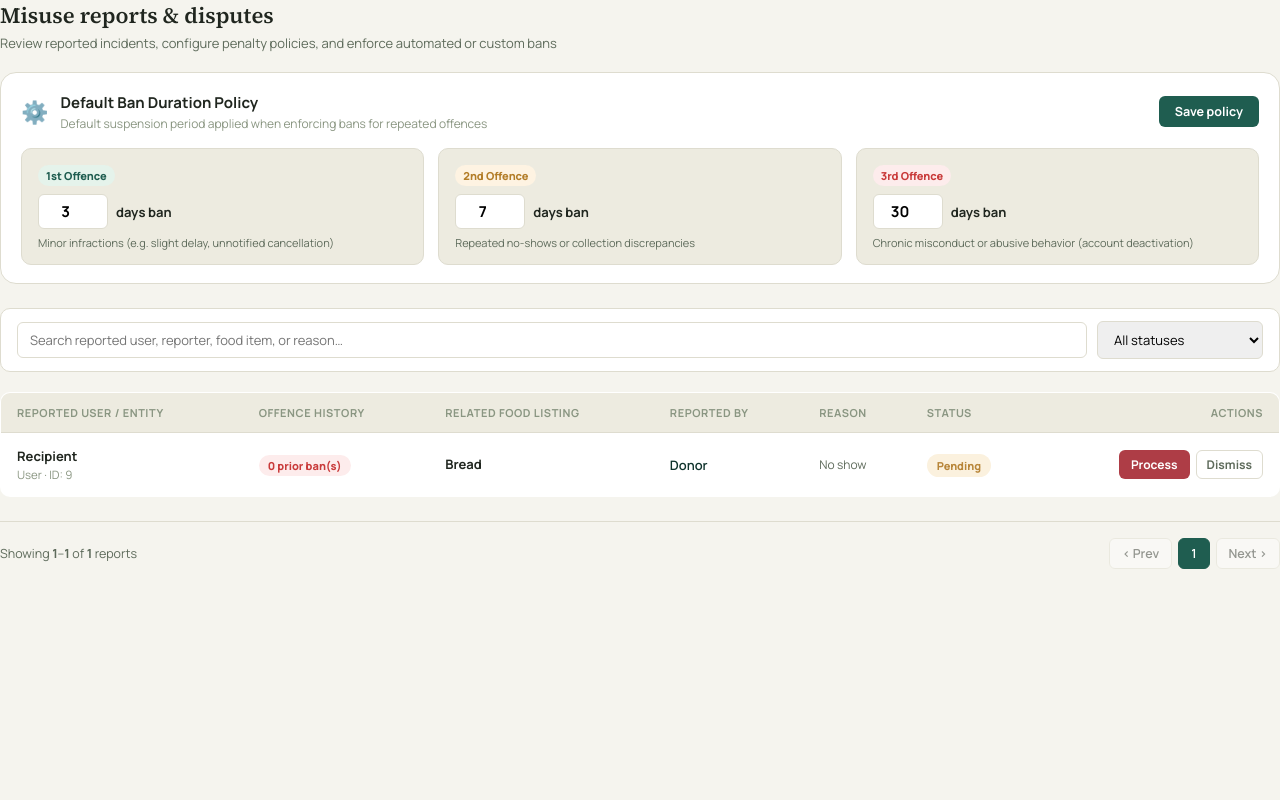
retains process form and pending row when server rejects action
The image size is (1280, 800).
Step 1. Click the button with class "btn-process" → (1154, 465), box x1=1119 y1=450 x2=1190 y2=479
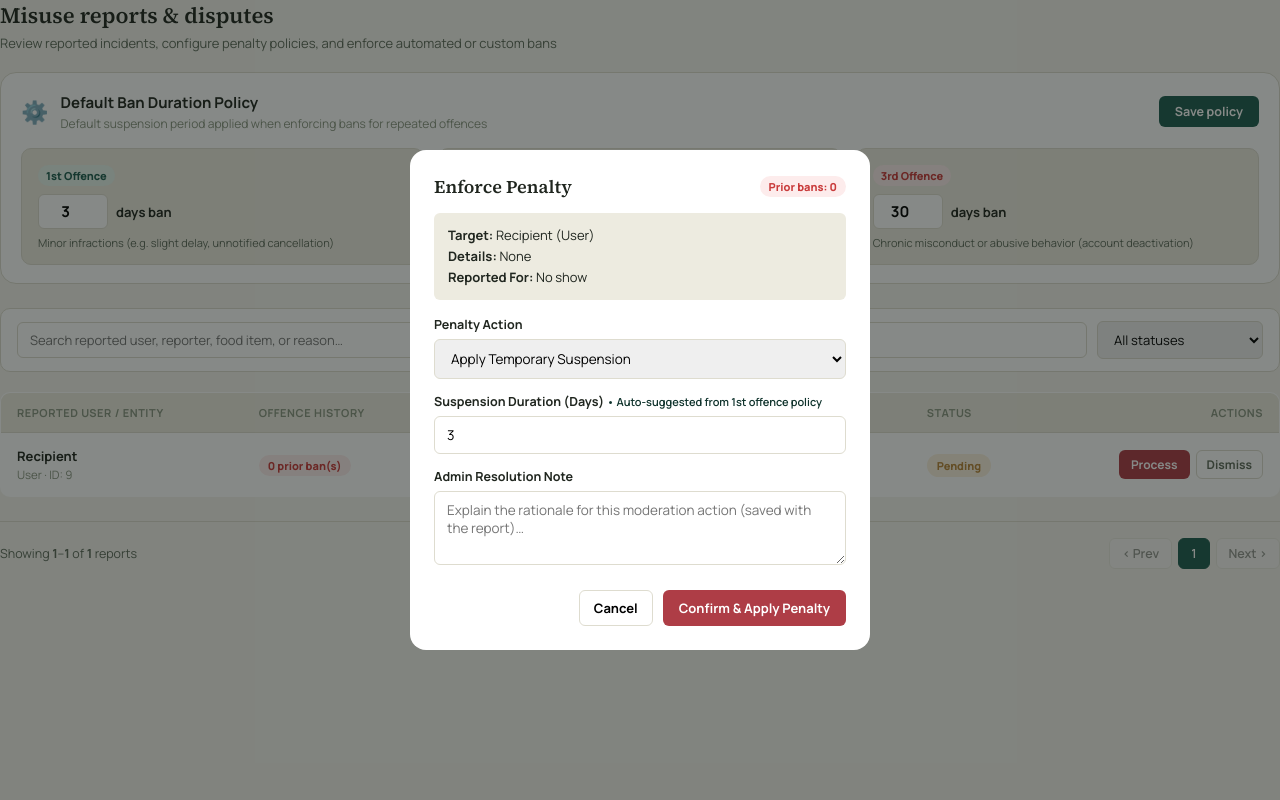
Step 2. Replace the text in the text box with "Keep note" → (640, 528), box x1=434 y1=491 x2=846 y2=565
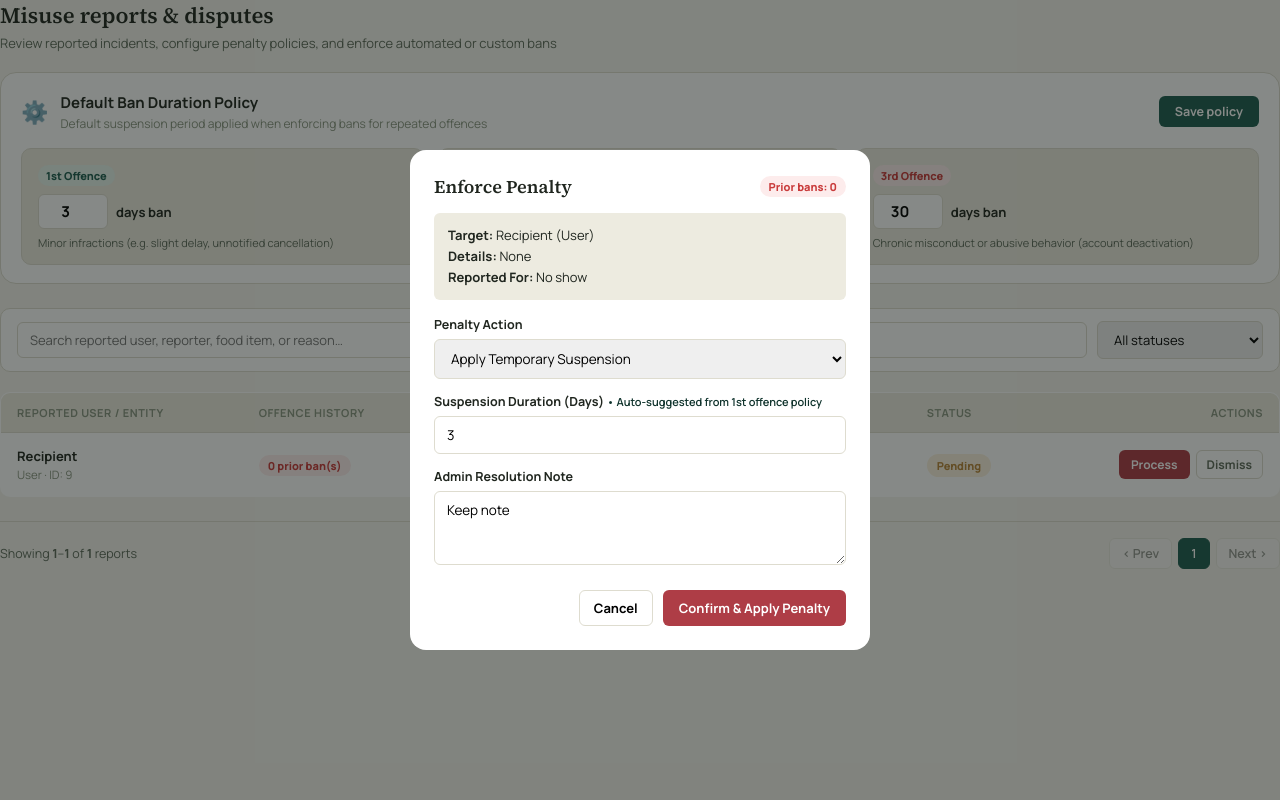
Step 3. Click the button with class "btn-danger-confirm" → (754, 608), box x1=663 y1=590 x2=846 y2=626
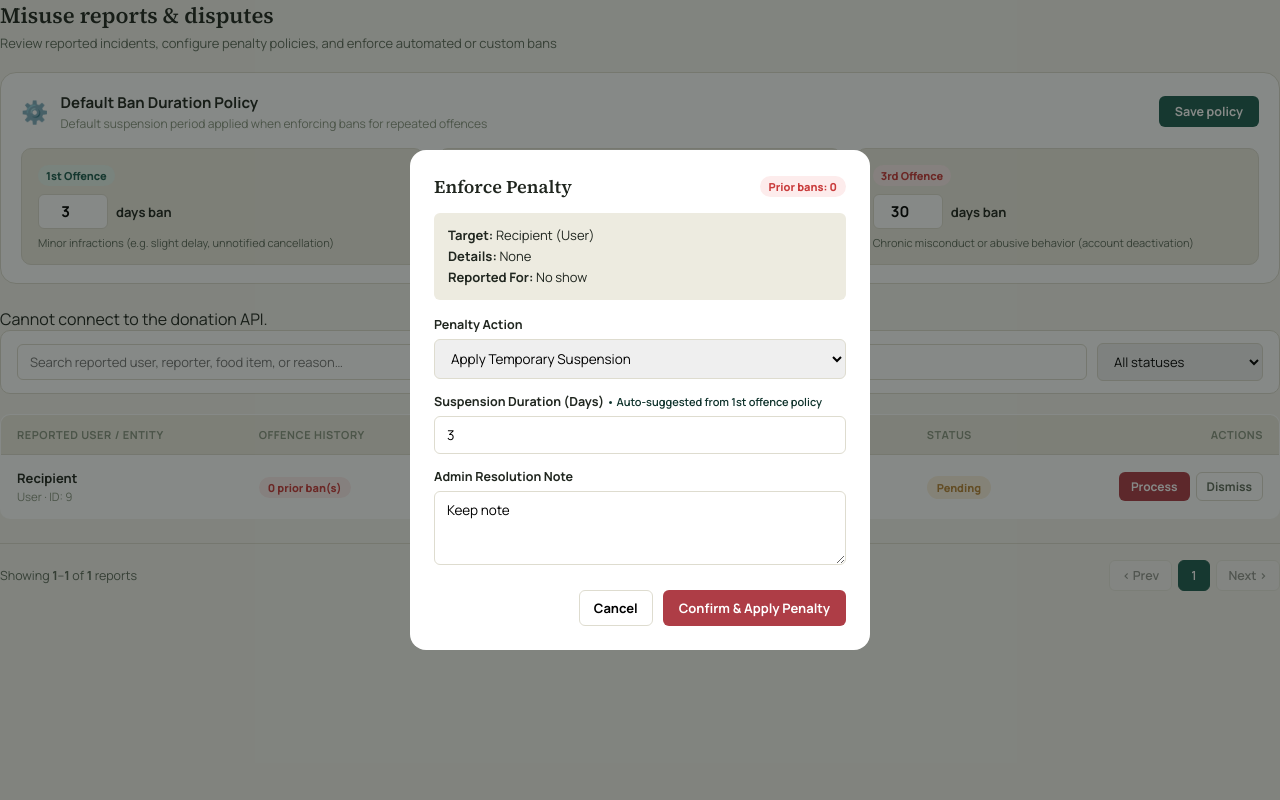
Expected: the text "Pending" is shown, x1=927 y1=476 x2=991 y2=499
Expected: the element with class "modal-card" is shown, x1=410 y1=150 x2=870 y2=650
Expected: the text "Cannot connect" is shown, x1=0 y1=308 x2=268 y2=330
